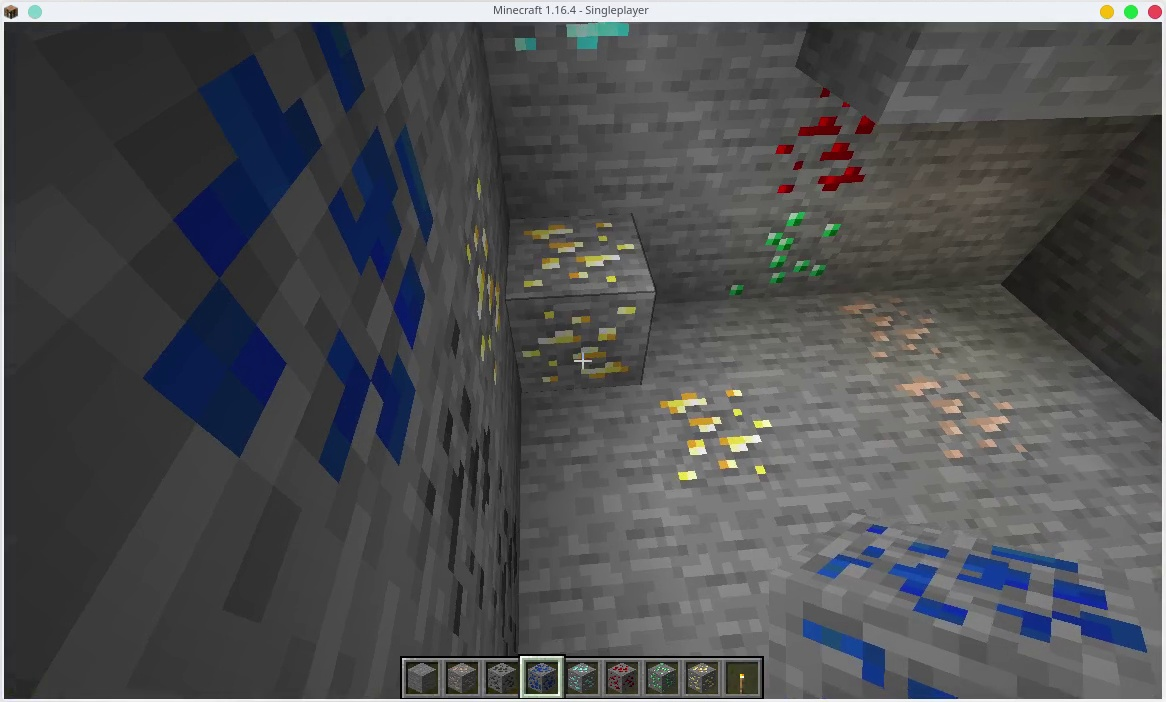gold: (516, 217, 656, 392), (652, 388, 778, 502), (469, 199, 506, 376), (690, 664, 718, 693)
